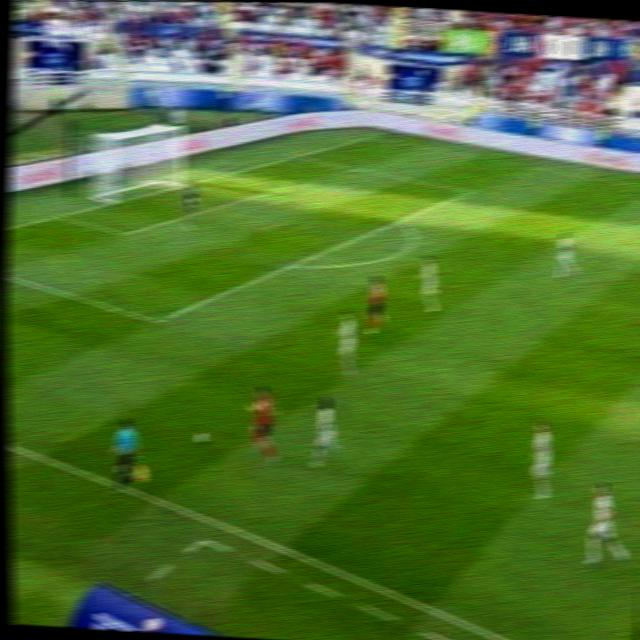bigarea_bottom_inner: (147, 312, 168, 331)
bigarea_top_inner: (463, 184, 477, 197)
bigarea_top_outter: (293, 152, 307, 159)
bottom_arc_area_intersection: (286, 258, 304, 272)
corner: (365, 132, 381, 141)
smallarea_bottom_inner: (117, 226, 133, 241)
smallarea_bottom_outter: (50, 209, 68, 224)
smallarea_top_inner: (264, 179, 293, 197)
smallarea_top_outter: (213, 166, 240, 185)
top_arc_area_intersection: (387, 212, 414, 232)
